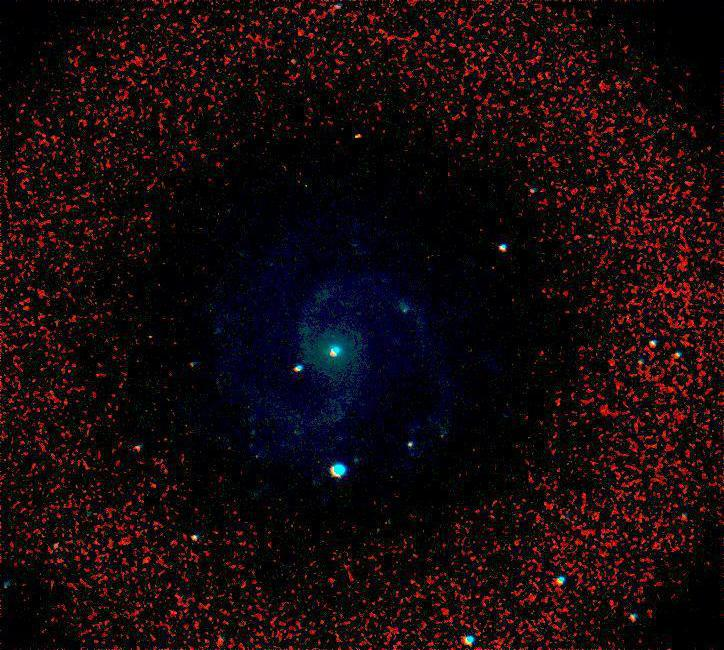star: (343, 124, 373, 154)
